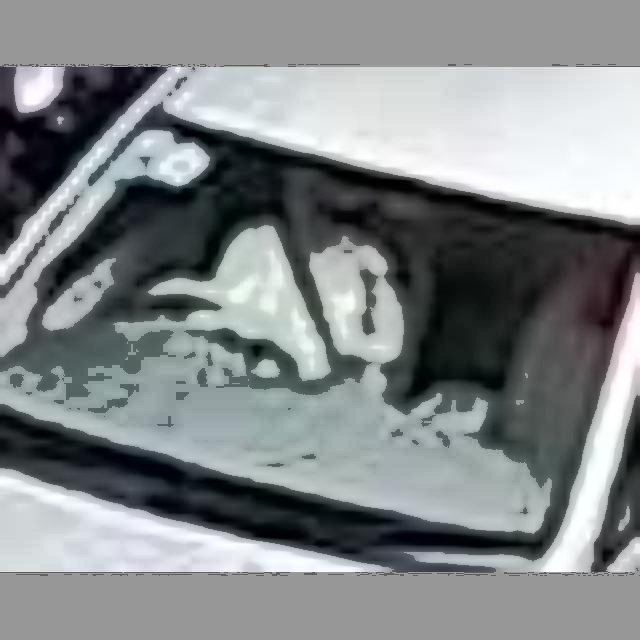pakai: (213, 130, 403, 407)
